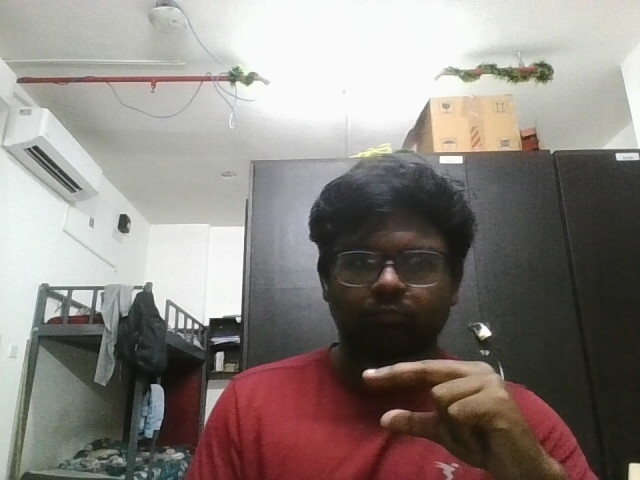No: (352, 348, 564, 475)
